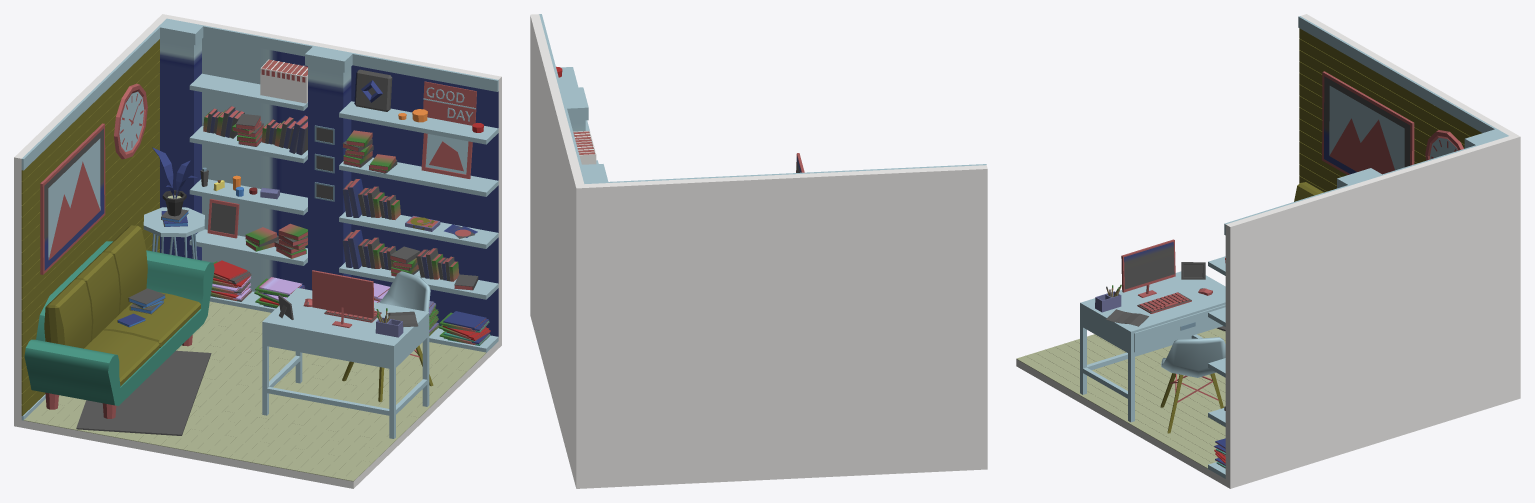
The model's file is Office_2.fbx.
3 renders of one model, left to right at view 1: azimuth 30°, elevation 25°; view 2: azimuth 150°, elevation 25°; view 3: azimuth 270°, elevation 25°, orthographic. The views are drawn at different scales.
Parts seen in each view (by area): view 1: Office2_base, Office2_parquet1, Office2_sofa, Office2_shelves, Office2_parquet2, Office2_table, Office2, Office2_picture, Office2_carpet, Office2_monitor1, Office2_decoration1, Office2_chair (+18 smaller); view 2: Office2_base, Office2_Books5; view 3: Office2_base, Office2_parquet1, Office2_parquet2, Office2_table, Office2_picture, Office2_chair, Office2_monitor1, Office2_shelves, Office2, Office2_Keyboard.
Part boxes in pixels (x1,y1,x2,y2): Office2_base: [14, 14, 501, 488]; Office2_parquet1: [23, 301, 485, 481]; Office2_sofa: [24, 225, 214, 418]; Office2_shelves: [189, 73, 498, 352]; Office2_parquet2: [21, 39, 159, 415]; Office2_table: [262, 288, 429, 438]; Office2: [114, 83, 483, 238]; Office2_picture: [40, 123, 105, 274]; Office2_carpet: [76, 350, 211, 435]; Office2_monitor1: [312, 270, 374, 327]; Office2_decoration1: [423, 81, 476, 125]; Office2_chair: [342, 271, 433, 402]; Office2_base: [530, 14, 987, 488]; Office2_Books5: [573, 131, 596, 164]; Office2_base: [1016, 14, 1520, 488]; Office2_parquet1: [1016, 328, 1225, 468]; Office2_parquet2: [1299, 28, 1482, 192]; Office2_table: [1080, 271, 1225, 422]; Office2_picture: [1322, 71, 1414, 174]; Office2_chair: [1160, 337, 1225, 433]; Office2_monitor1: [1121, 239, 1175, 297]; Office2_shelves: [1208, 256, 1225, 478]; Office2: [1225, 130, 1463, 262]; Office2_Keyboard: [1137, 292, 1191, 313].
Bounding box in the file's own units: 699 × 401 × 699.
